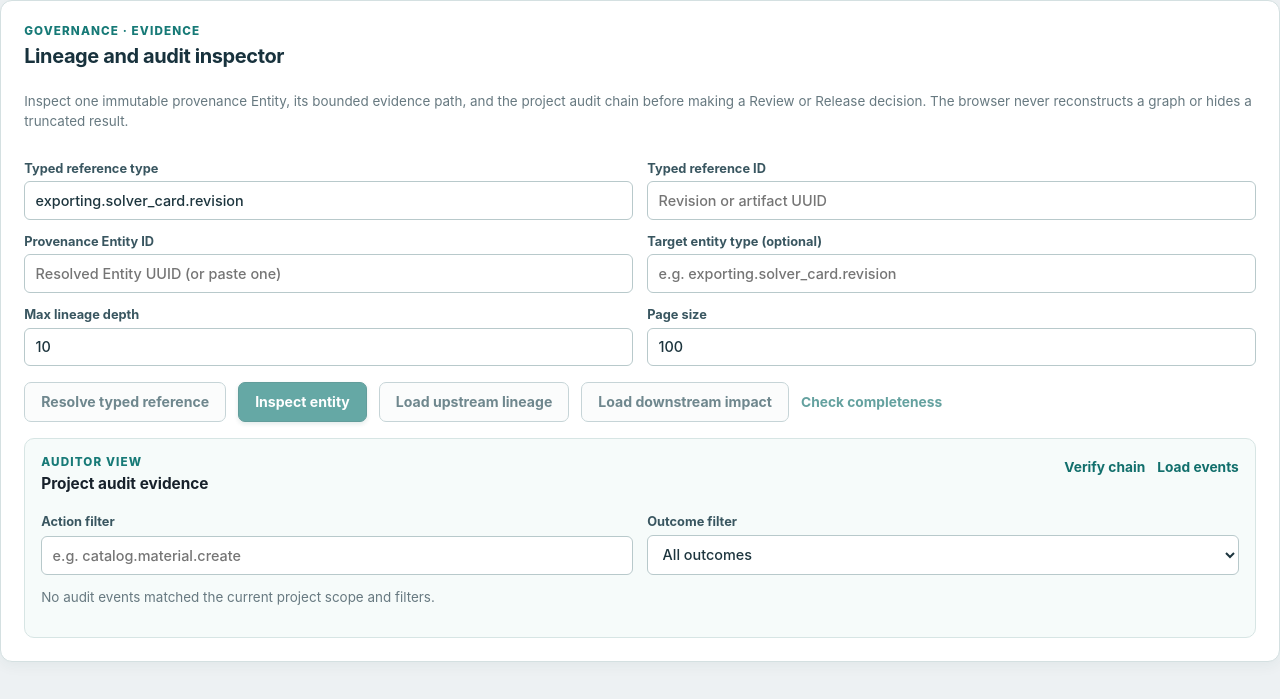
Test: Governance evidence workbench › resolves a revision reference before opening the evidence path
Type "00000000-0000-0000-0000-000000000004" into the field labelled "Typed reference ID" at (952, 200), box [647,181,1256,220]
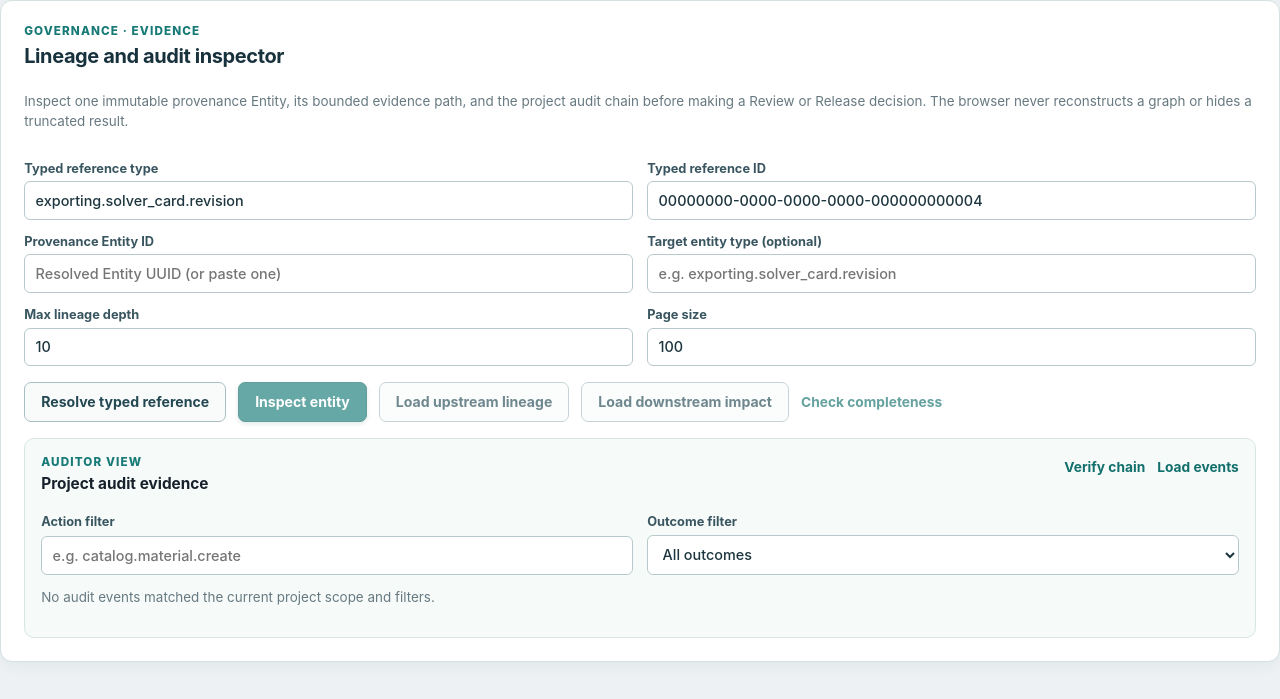
Click the button "Resolve typed reference" at (125, 402), box [24,382,226,422]
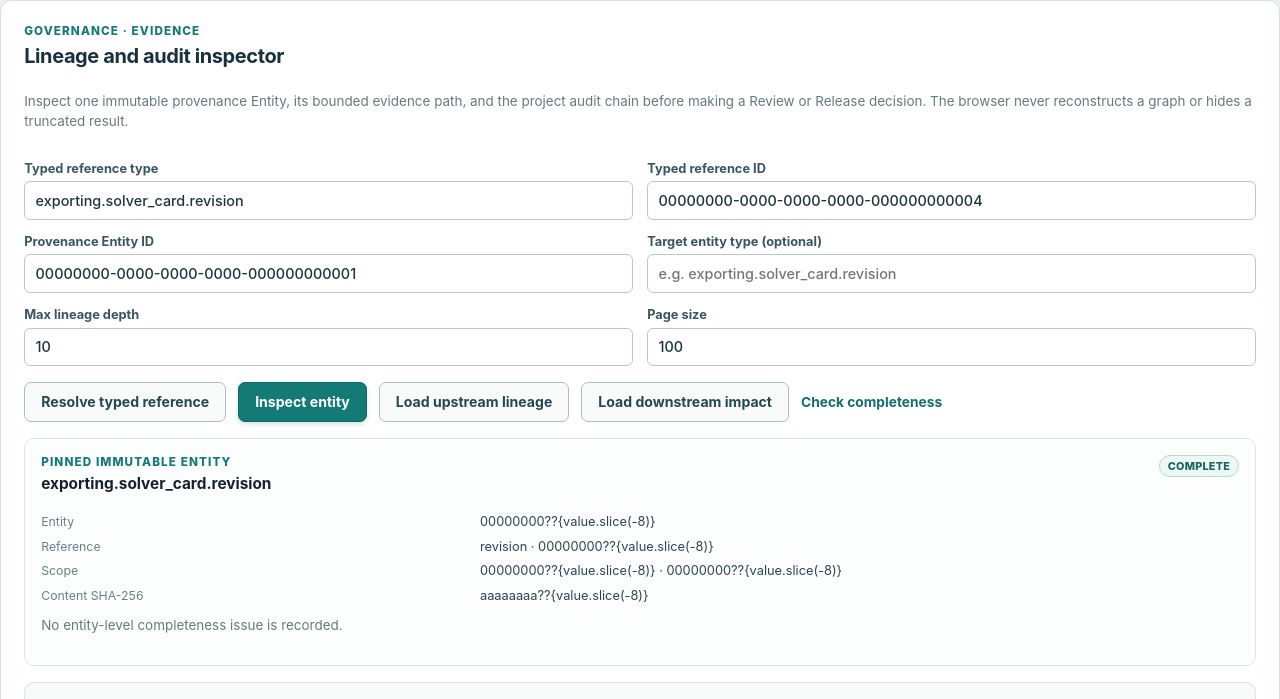
Now the heading "exporting.solver_card.revision" is shown, box [41,474,272,493]
Now the field showing "00000000-0000-0000-0000-000000000001" is shown, box [24,254,633,293]
